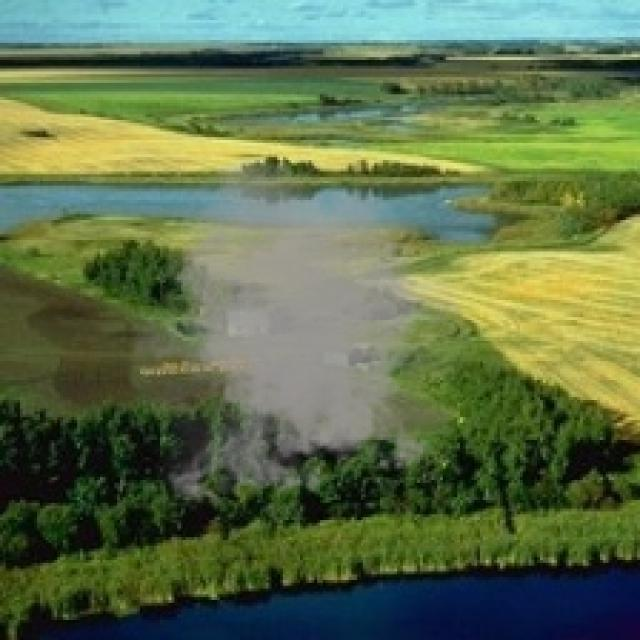Smoke: (114, 152, 483, 514)
